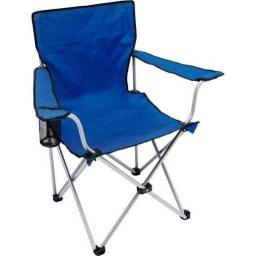Chair: (30, 0, 222, 252)
